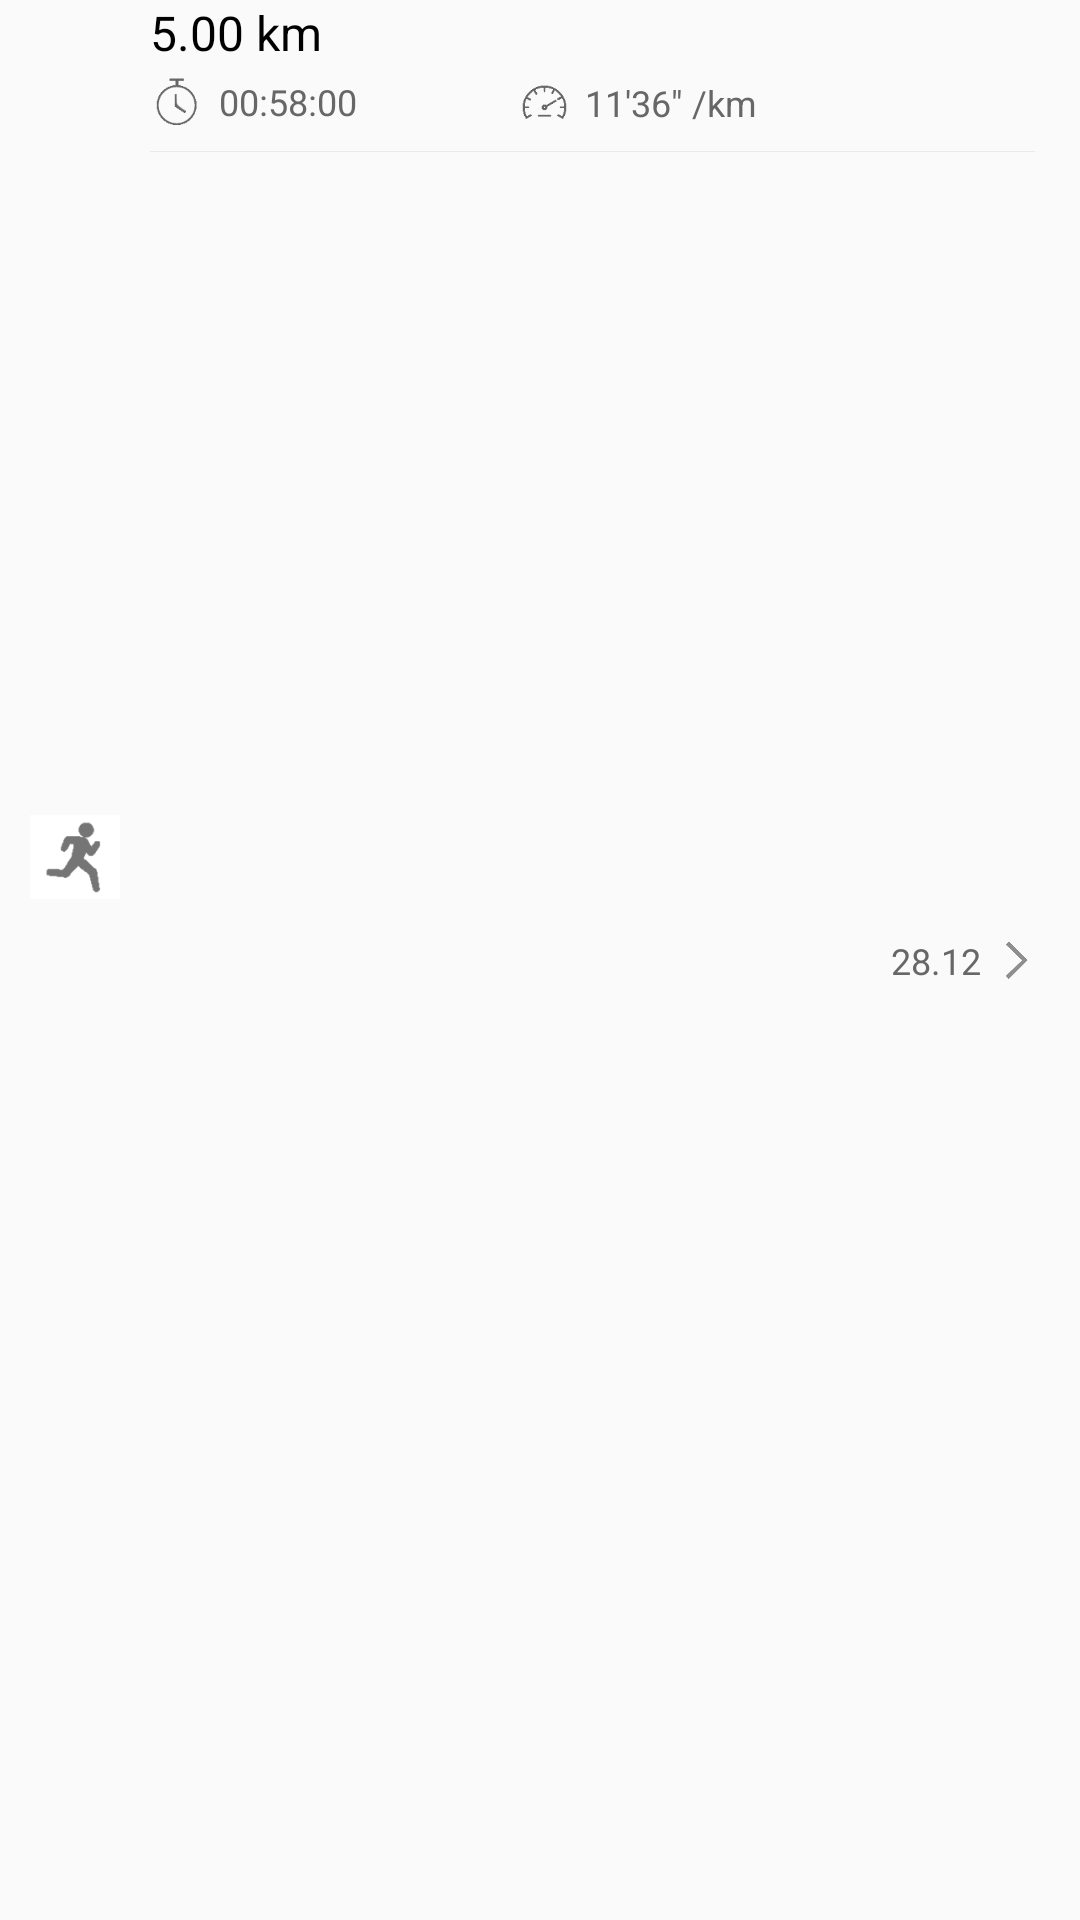

Icons on this 1080×1920 Android screen, each with the point to tap as (x,y):
arrow: (1016,960)
pace: (544,102)
running: (73,857)
time: (176,101)
